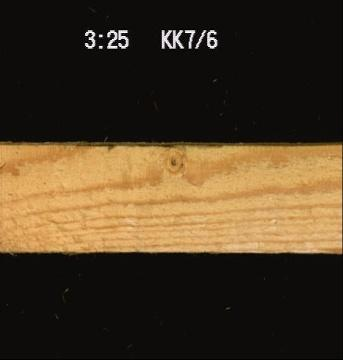small_knot: (159, 145, 186, 174)
